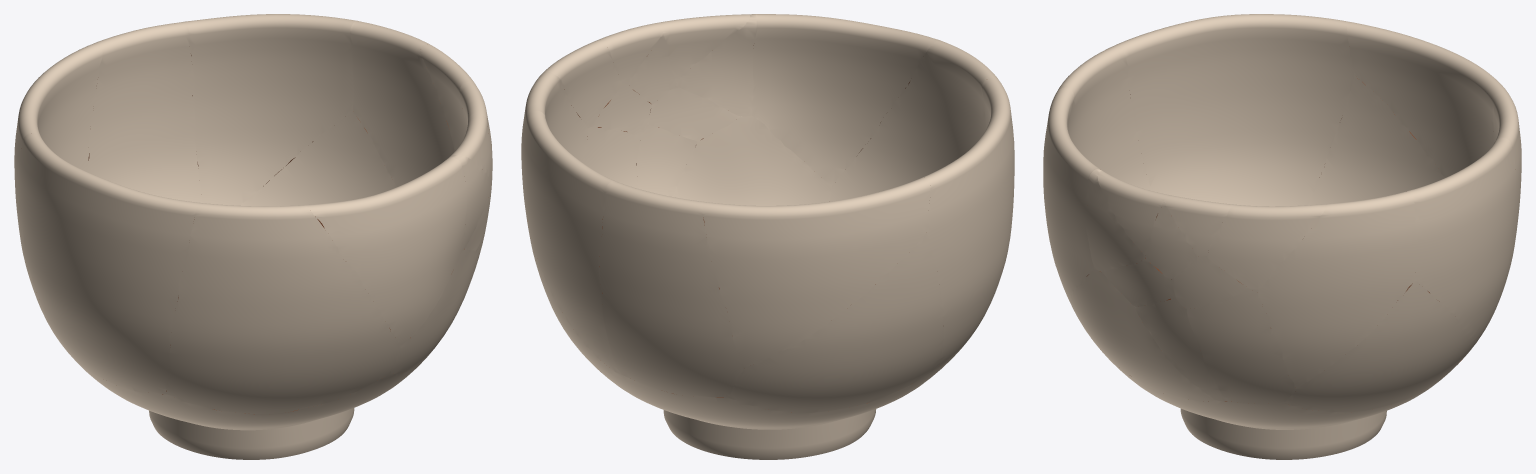
Rendered from Z1_fling.glb.
The picture shows the model from 3 angles, left to right: view 1: azimuth 30°, elevation 25°; view 2: azimuth 150°, elevation 25°; view 3: azimuth 270°, elevation 25°; orthographic projection.
Parts seen in each view (by area): view 1: shard_14, shard_17, shard_15, shard_16, shard_11, shard_10, shard_00, shard_13, shard_18, shard_12, shard_07, shard_05 (+4 smaller); view 2: shard_18, shard_16, shard_11, shard_19, shard_17, shard_15, shard_14, shard_00, shard_12, shard_05, shard_07, shard_03 (+8 smaller); view 3: shard_17, shard_10, shard_15, shard_18, shard_13, shard_00, shard_19, shard_09, shard_14, shard_11, shard_12, shard_07 (+8 smaller).
Boxes of the visible parts, box(x1,y1,x2,y2) form: shard_14: box(166, 202, 400, 414); shard_17: box(17, 133, 198, 394); shard_15: box(185, 14, 355, 205); shard_16: box(87, 21, 203, 203); shard_11: box(305, 157, 467, 346); shard_10: box(350, 20, 454, 186); shard_00: box(71, 356, 421, 459); shard_13: box(241, 109, 396, 206); shard_18: box(14, 43, 102, 183); shard_12: box(389, 248, 475, 374); shard_07: box(420, 44, 475, 150); shard_05: box(448, 155, 490, 252); shard_18: box(702, 177, 930, 368); shard_16: box(599, 181, 742, 397); shard_11: box(751, 14, 938, 186); shard_19: box(728, 232, 943, 412); shard_17: box(922, 78, 1014, 366); shard_15: box(522, 110, 619, 373); shard_14: box(829, 40, 998, 201); shard_00: box(600, 356, 954, 459); shard_12: box(672, 115, 830, 205); shard_05: box(675, 14, 756, 116); shard_07: box(544, 39, 621, 128); shard_03: box(657, 14, 749, 82); shard_17: box(1115, 14, 1354, 206); shard_10: box(1257, 191, 1417, 388); shard_15: box(1408, 138, 1515, 342); shard_18: box(1347, 22, 1509, 177); shard_13: box(1284, 280, 1476, 412); shard_00: box(1100, 349, 1462, 459); shard_19: box(1308, 76, 1444, 205); shard_09: box(1186, 290, 1296, 403); shard_14: box(1054, 45, 1151, 305); shard_11: box(1043, 87, 1099, 299); shard_12: box(1069, 269, 1217, 401); shard_07: box(1206, 204, 1326, 291).
Bounding box in the file's own units: 0.1228 × 0.0871 × 0.122.
